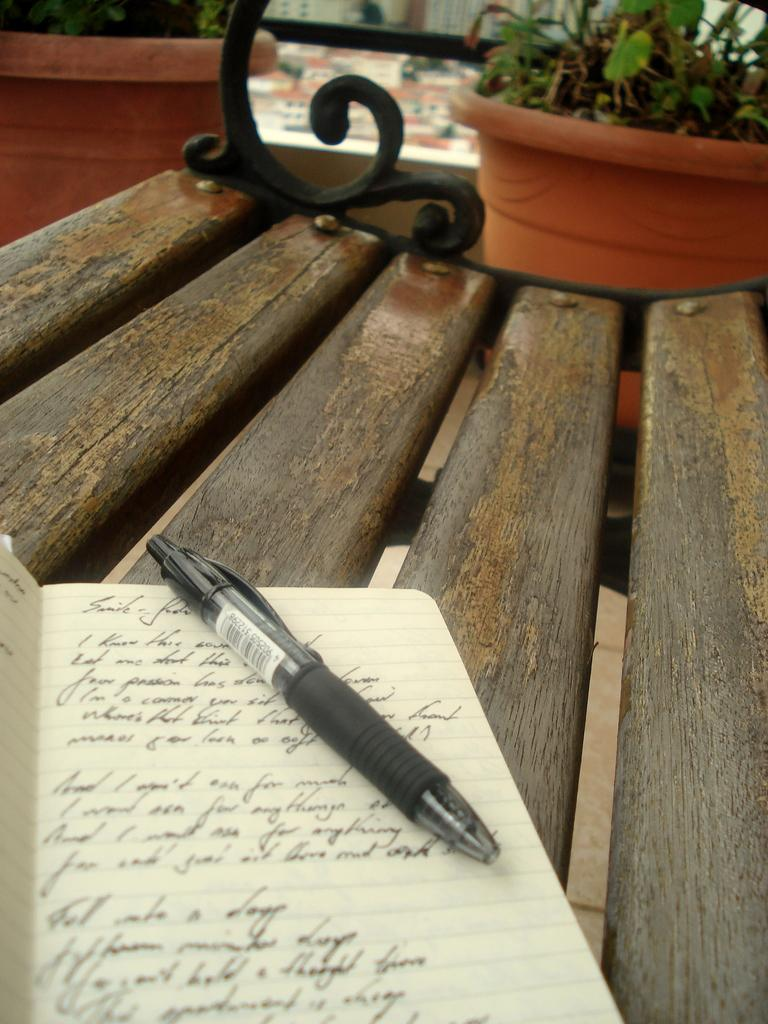pen: (147, 532, 500, 863)
